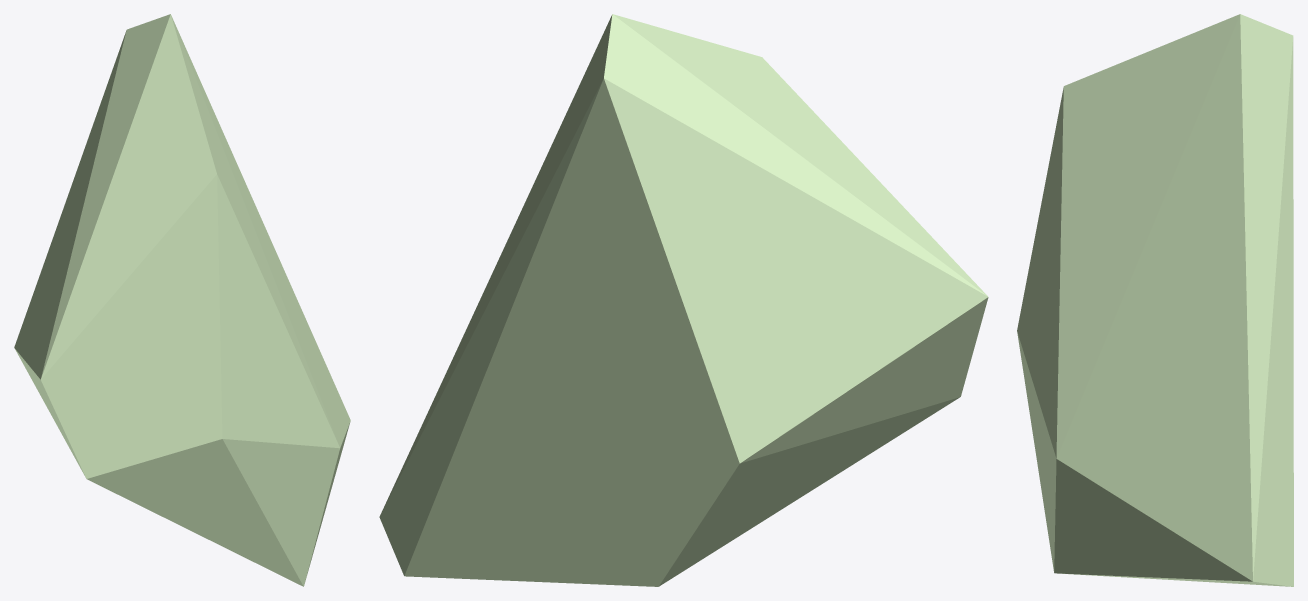
File: kuka_robot_base_coll_16.dae
The picture shows the model from 3 angles, left to right: view 1: azimuth 30°, elevation 25°; view 2: azimuth 150°, elevation 25°; view 3: azimuth 270°, elevation 25°; orthographic projection. The views are drawn at different scales.
Visible parts, largest first — view 1: Node_0000015C5C912980; view 2: Node_0000015C5C912980; view 3: Node_0000015C5C912980.
Boxes of the visible parts, box(x1,y1,x2,y2) form: Node_0000015C5C912980: box(14, 14, 350, 586); Node_0000015C5C912980: box(379, 14, 988, 586); Node_0000015C5C912980: box(1017, 14, 1293, 586).
Size of the model in its own units: 0.0239 by 0.0292 by 0.0136.
